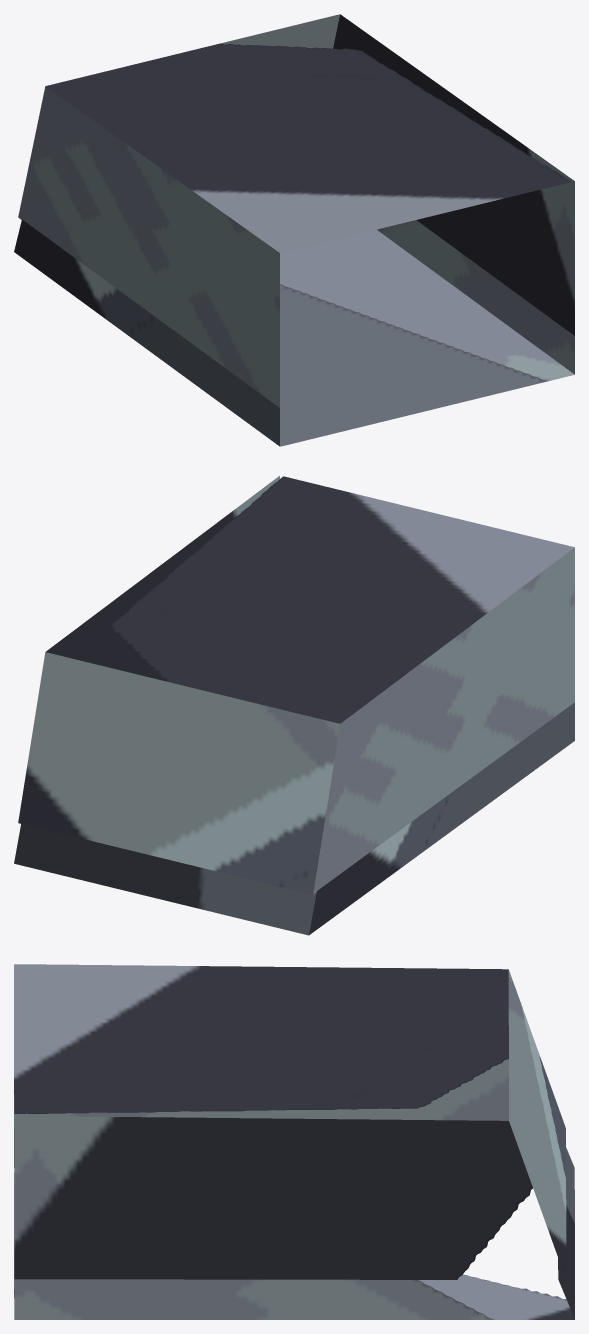
File: ss8_carport.obj
3 views of the same model, one above another, from view 1: azimuth 30°, elevation 25°; view 2: azimuth 150°, elevation 25°; view 3: azimuth 270°, elevation 25° (orthographic). The views are drawn at different scales.
Parts seen in each view (by area): view 1: cube_selection_selection_selection_selection_selection_selection; view 2: cube_selection_selection_selection_selection_selection_selection; view 3: cube_selection_selection_selection_selection_selection_selection.
Boxes of the visible parts, left/top/right/bottom form: cube_selection_selection_selection_selection_selection_selection: left=14, top=14, right=574, bottom=446; cube_selection_selection_selection_selection_selection_selection: left=14, top=476, right=574, bottom=935; cube_selection_selection_selection_selection_selection_selection: left=14, top=964, right=574, bottom=1319.
Size of the model in its own units: 1 by 0.6272 by 1.56.
